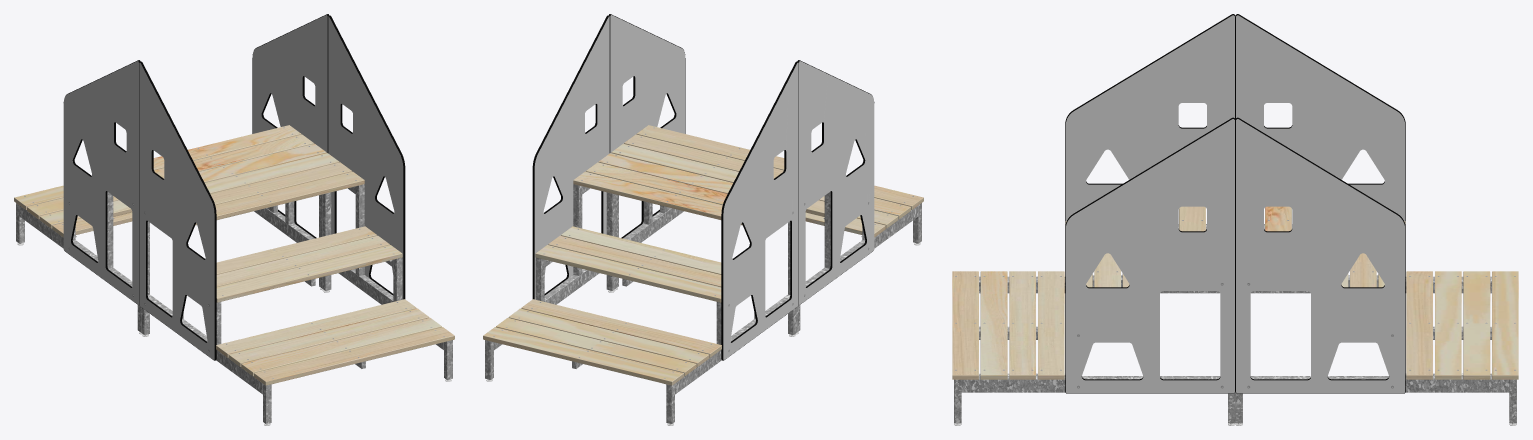
Rendered from stufenhaus.glb.
3 views of the same model, side by side, from view 1: azimuth 30°, elevation 25°; view 2: azimuth 150°, elevation 25°; view 3: azimuth 270°, elevation 25° (orthographic). The views are drawn at different scales.
Visible parts, largest first — view 1: HPL, Kiefernholz, Gestell, HPL Kante; view 2: HPL, Kiefernholz, Gestell, HPL Kante; view 3: HPL, Kiefernholz, Gestell, HPL Kante.
Part boxes in pixels (<box>): HPL: <box>63,15,403,359</box>; Kiefernholz: <box>14,125,454,385</box>; Gestell: <box>16,184,452,423</box>; HPL Kante: <box>63,14,405,360</box>; HPL: <box>534,15,874,359</box>; Kiefernholz: <box>483,125,923,385</box>; Gestell: <box>485,184,921,423</box>; HPL Kante: <box>532,14,874,360</box>; HPL: <box>1066,15,1404,393</box>; Kiefernholz: <box>952,206,1518,379</box>; Gestell: <box>954,224,1516,423</box>; HPL Kante: <box>1065,14,1405,393</box>.
Size of the model in its own units: 1.31 by 1.8 by 3.
Materials: 4 (2 with a texture image).
